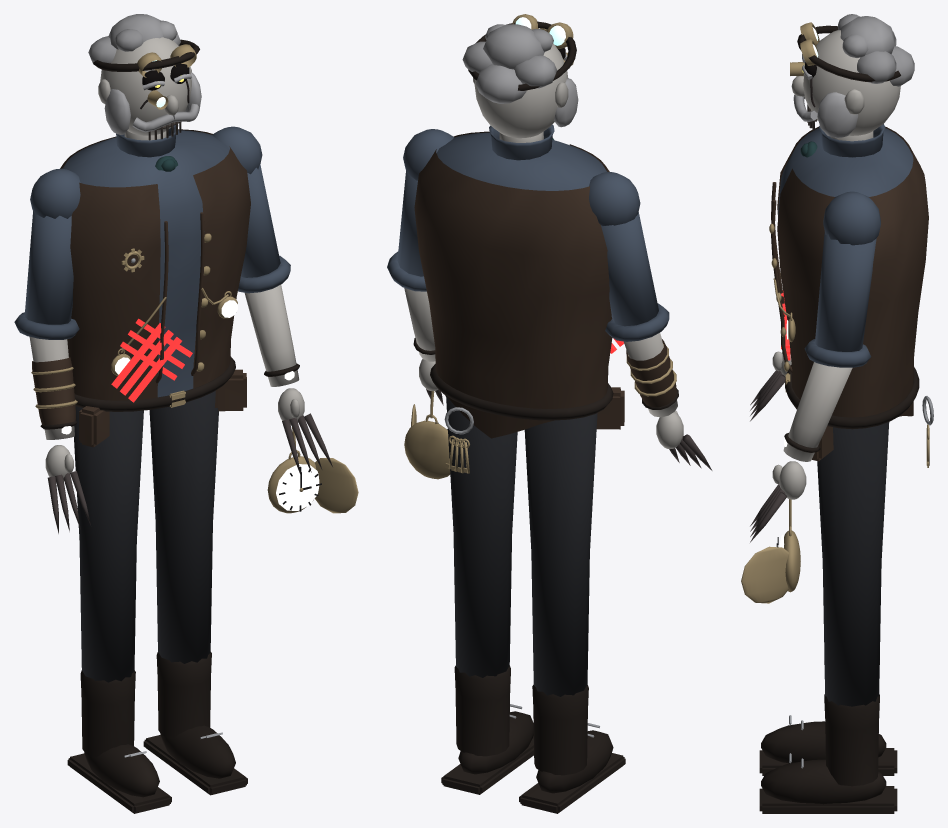
Rendered from horologist.glb.
3 views of the same model, side by side, from view 1: azimuth 30°, elevation 25°; view 2: azimuth 150°, elevation 25°; view 3: azimuth 270°, elevation 25° (orthographic). The views are drawn at different scales.
Parts seen in each view (by area): view 1: Horologist_Root_WaistcoatLeather, TrouserLegB, TrouserLegA, Horologist_Root_SteelShirt, LegA_Boot, LegB_Boot, ArmA_SteelShirt, ArmB_SteelShirt, Head_GreyHair, Head_Skin, ArmB_Skin, ArmB_Brass (+10 smaller); view 2: Horologist_Root_WaistcoatLeather, TrouserLegA, TrouserLegB, LegA_Boot, ArmA_SteelShirt, LegB_Boot, Horologist_Root_SteelShirt, Head_GreyHair, Head_Skin, ArmB_SteelShirt, ArmB_Brass, Belt (+6 smaller); view 3: Horologist_Root_WaistcoatLeather, TrouserLegB, LegB_Boot, ArmB_SteelShirt, Horologist_Root_SteelShirt, Head_GreyHair, Head_Skin, ArmB_Skin, LegA_Boot, ArmB_Brass, Belt, GoggleStrap (+4 smaller).
Boxes of the visible parts, x1,y1,x2,y2 form: Horologist_Root_WaistcoatLeather: (60,129,250,447); TrouserLegB: (149,390,218,663); TrouserLegA: (74,406,143,682); Horologist_Root_SteelShirt: (62,125,229,397); LegA_Boot: (67,670,171,813); LegB_Boot: (143,652,247,795); ArmA_SteelShirt: (14,168,80,339); ArmB_SteelShirt: (212,126,290,293); Head_GreyHair: (88,14,201,134); Head_Skin: (98,37,191,140); ArmB_Skin: (244,284,304,425); ArmB_Brass: (267,427,358,513); Horologist_Root_WaistcoatLeather: (414,131,624,438); TrouserLegA: (524,413,597,696); TrouserLegB: (446,396,517,677); LegA_Boot: (519,685,625,813); ArmA_SteelShirt: (589,172,669,341); LegB_Boot: (441,665,533,794); Horologist_Root_SteelShirt: (436,124,606,190); Head_GreyHair: (462,24,578,127); Head_Skin: (473,43,568,142); ArmB_SteelShirt: (387,129,453,291); ArmB_Brass: (404,391,450,479); Belt: (430,364,613,420); Horologist_Root_WaistcoatLeather: (771,126,928,461); TrouserLegB: (817,422,889,706); LegB_Boot: (759,694,897,813); ArmB_SteelShirt: (804,191,880,367); Horologist_Root_SteelShirt: (778,124,913,218); Head_GreyHair: (793,14,914,138); Head_Skin: (791,30,900,141); ArmB_Skin: (772,362,852,499); LegA_Boot: (759,660,897,775); ArmB_Brass: (741,499,800,603); Belt: (785,365,919,429); GoggleStrap: (797,25,900,82).
Bounding box in the file's own units: 0.7377 × 1.78 × 0.4059.
